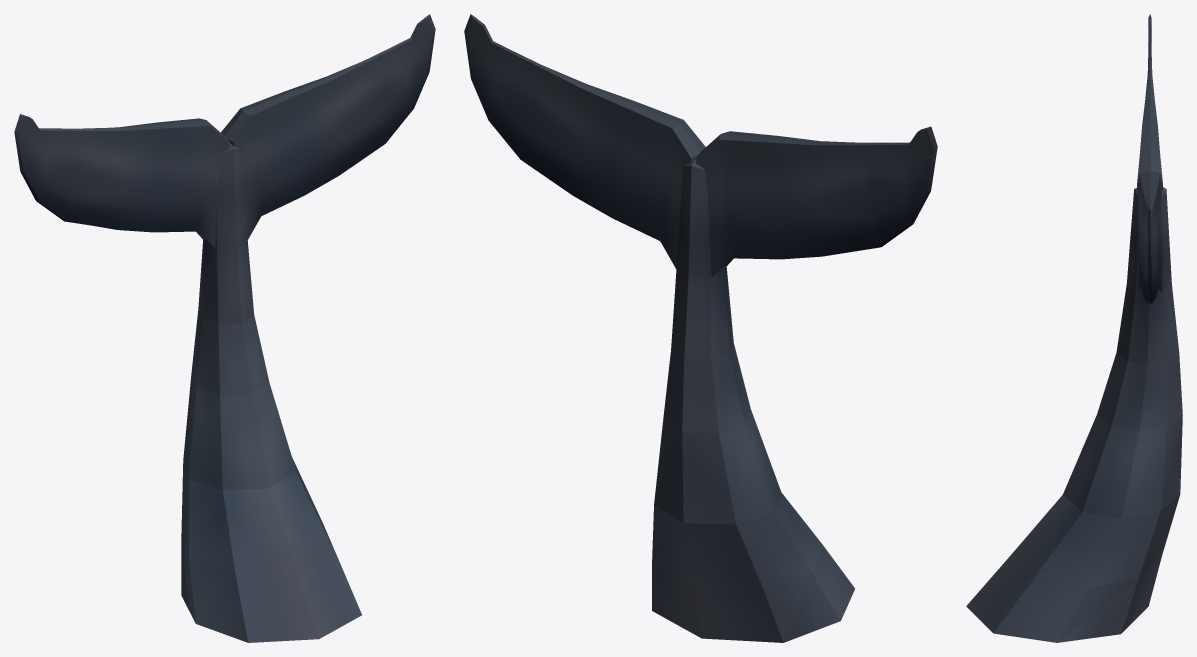
The model's file is tail.obj.
3 views of the same model, side by side, from view 1: azimuth 30°, elevation 25°; view 2: azimuth 150°, elevation 25°; view 3: azimuth 270°, elevation 25° (orthographic). The views are drawn at different scales.
Bounding box in the file's own units: 12.52 × 14.38 × 5.71.
1 material, 1 textured.
